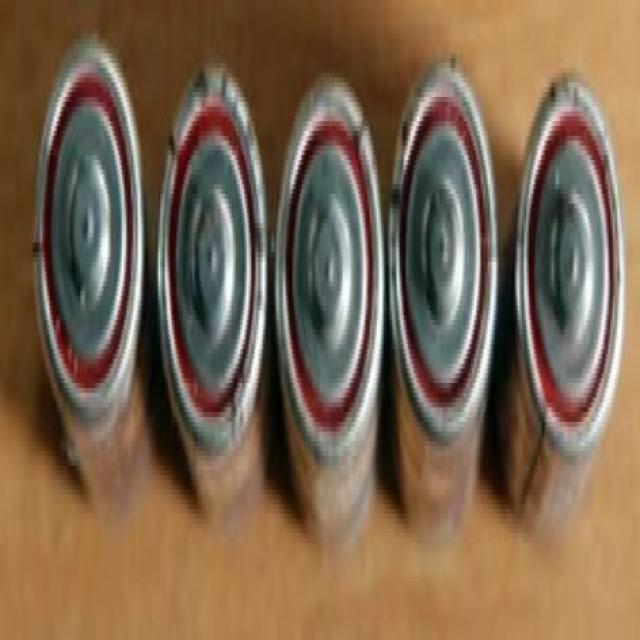electronic: (18, 14, 166, 538), (508, 47, 631, 608), (387, 57, 502, 598), (275, 69, 382, 554), (163, 62, 275, 508)
